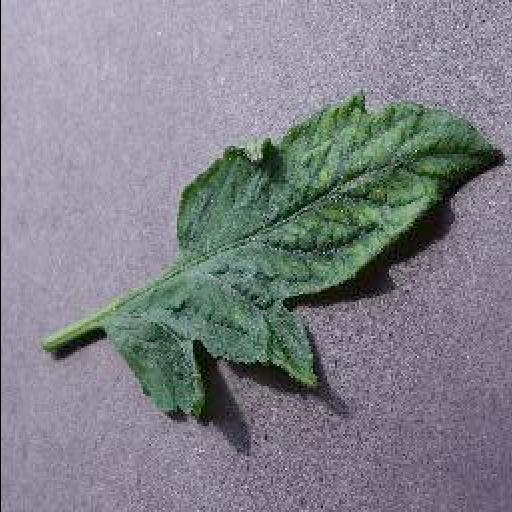disease_tomato: (102, 90, 492, 424)
